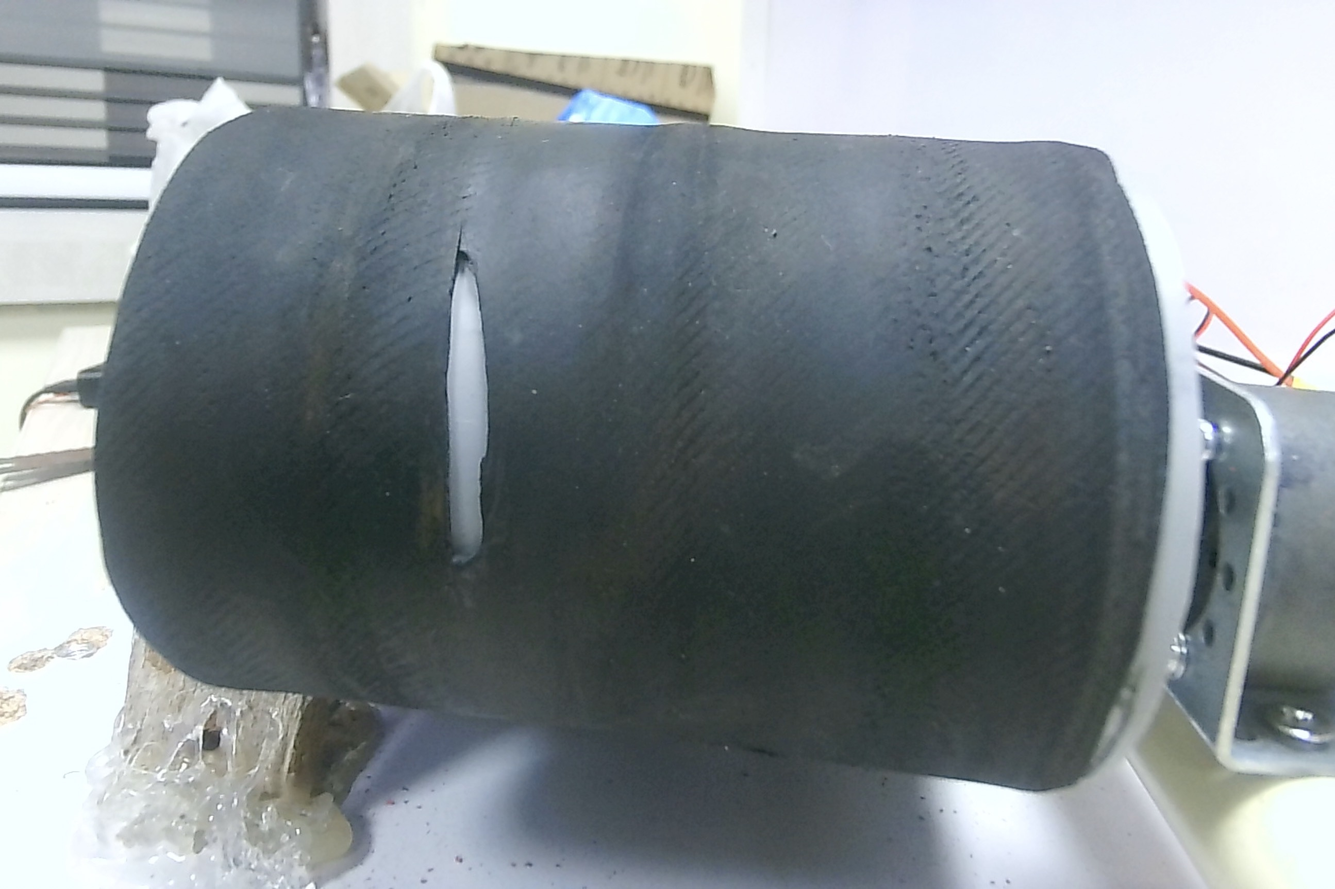tear: (429, 229, 518, 586)
